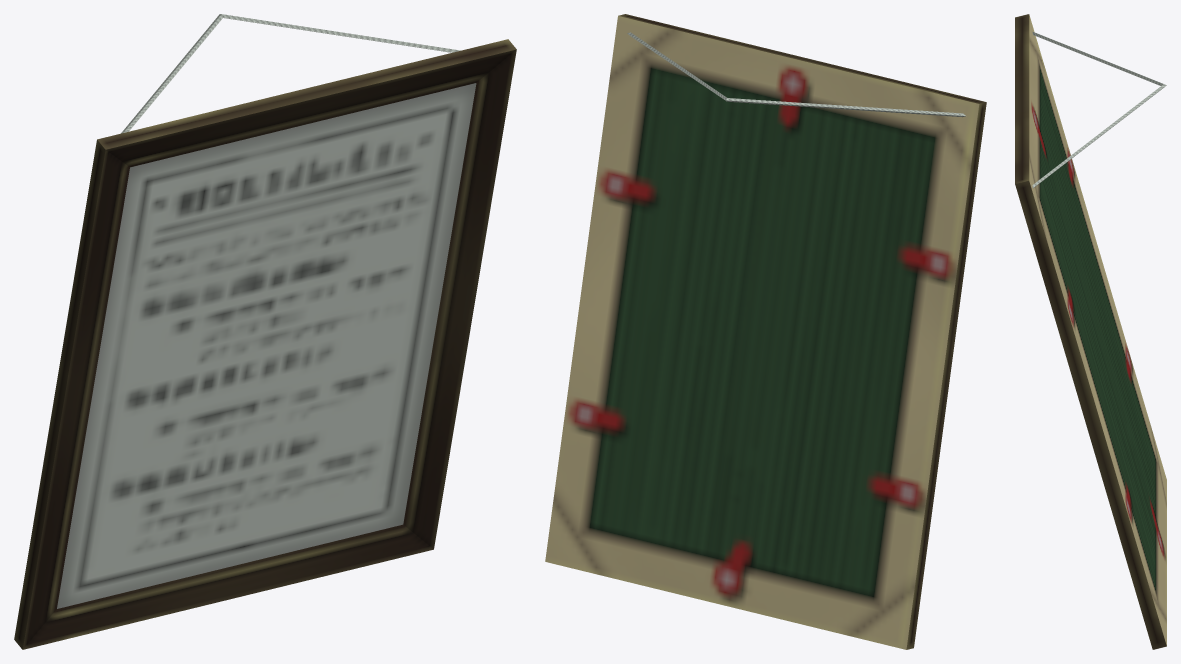
File: Paper_01_03.fbx
The picture shows the model from 3 angles, left to right: view 1: azimuth 30°, elevation 25°; view 2: azimuth 150°, elevation 25°; view 3: azimuth 270°, elevation 25°; orthographic projection. The views are drawn at different scales.
Parts seen in each view (by area): view 1: paper_01_03; view 2: paper_01_03; view 3: paper_01_03.
Boxes of the visible parts, <box> form: paper_01_03: <box>14,14,516,649</box>; paper_01_03: <box>545,14,986,649</box>; paper_01_03: <box>1015,14,1166,649</box>.
Bounding box in the file's own units: 24.93 × 33.65 × 9.6.
